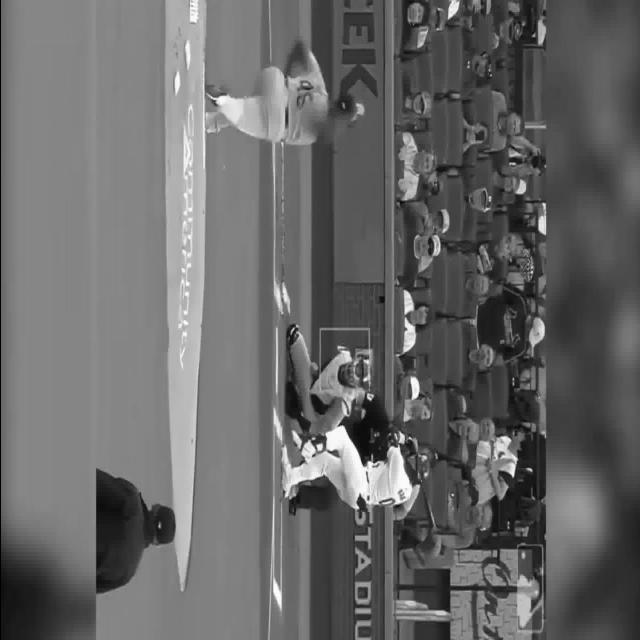base: (274, 328, 278, 396)
baseball: (358, 102, 362, 116)
baseball_glove: (284, 382, 302, 422)
bat: (416, 486, 434, 534)
shoe: (202, 86, 228, 113), (290, 430, 310, 464), (280, 446, 292, 490), (205, 113, 216, 140)
